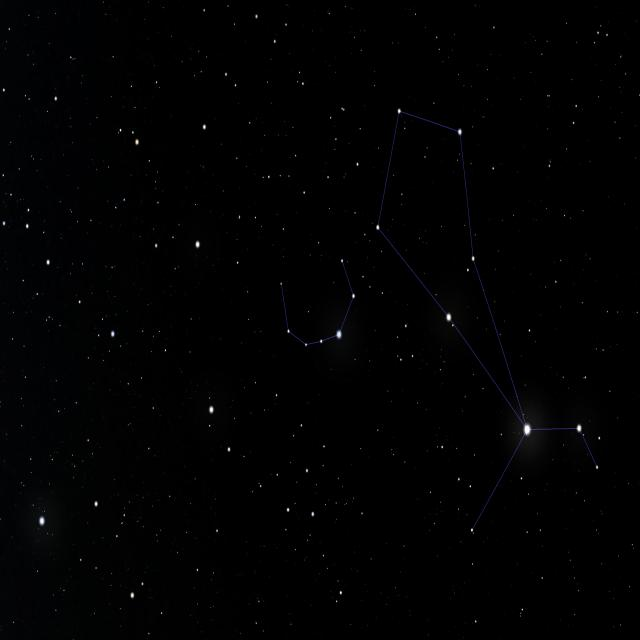Corona: (267, 253, 365, 352)
